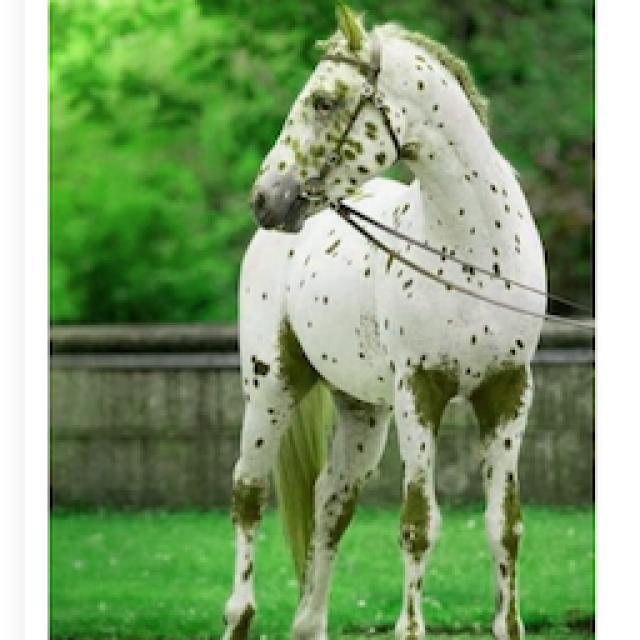Horse: (202, 0, 556, 638)
